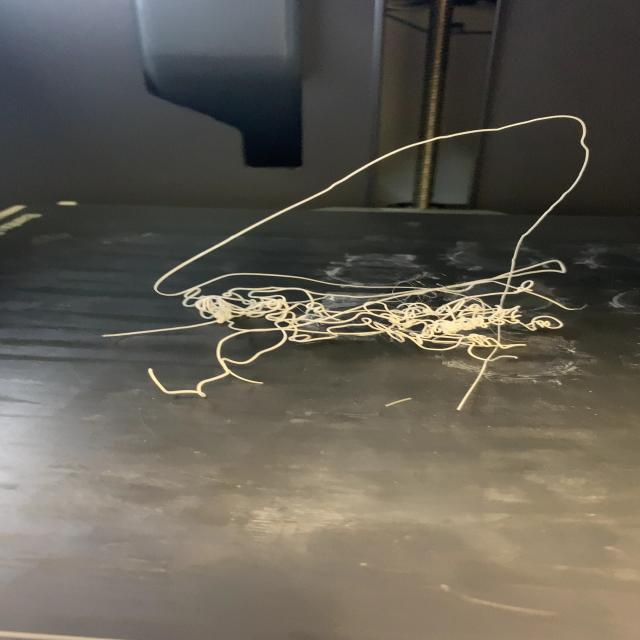spaghetti: (99, 113, 595, 413)
